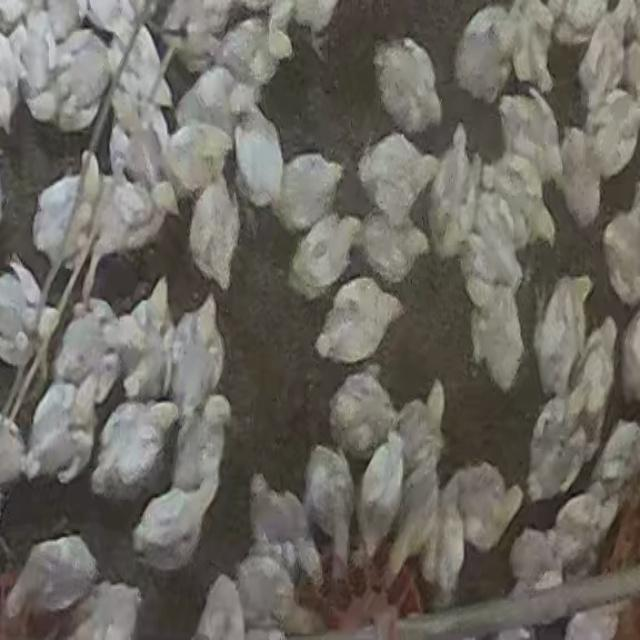chicken: (132, 469, 221, 572), (91, 397, 175, 502), (30, 152, 103, 272), (250, 473, 325, 589), (524, 377, 594, 501), (313, 278, 402, 368), (7, 533, 98, 621), (50, 300, 124, 404), (29, 374, 99, 482), (485, 156, 561, 255), (534, 274, 594, 397), (447, 462, 524, 557), (380, 469, 440, 590), (168, 297, 226, 421), (373, 38, 444, 133), (469, 282, 527, 396), (0, 258, 59, 369), (288, 212, 363, 299), (453, 7, 519, 105), (453, 206, 525, 294), (304, 442, 354, 565), (419, 495, 471, 612), (188, 179, 240, 293), (579, 0, 637, 102), (359, 136, 436, 211), (358, 432, 404, 556), (431, 126, 474, 257), (171, 398, 235, 486), (277, 151, 344, 234), (358, 209, 428, 287), (503, 90, 563, 181), (328, 376, 396, 456), (583, 86, 640, 181), (165, 120, 233, 199), (500, 0, 557, 92), (221, 18, 295, 88), (236, 553, 300, 631), (233, 117, 285, 209), (394, 384, 443, 477), (557, 127, 601, 229), (176, 66, 238, 138), (74, 577, 143, 640), (601, 196, 640, 306), (583, 316, 620, 412), (593, 421, 639, 498), (193, 577, 245, 640)
